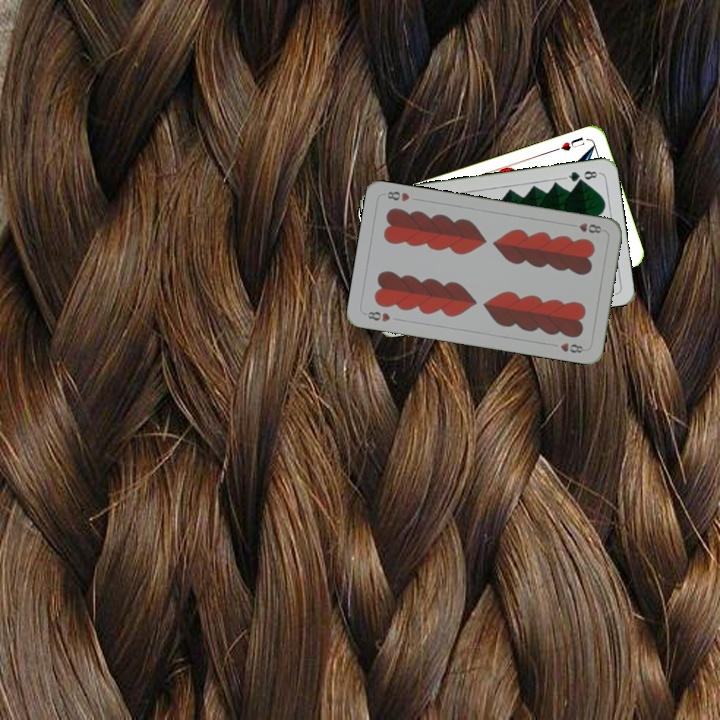G8: (561, 166, 602, 185)
H8: (361, 307, 393, 324), (575, 219, 604, 236)
HU: (550, 133, 587, 154)
